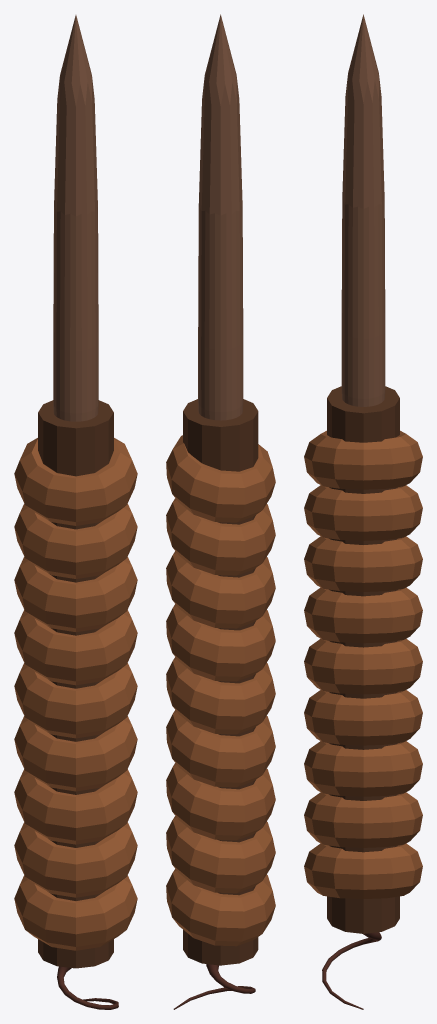
File: Wand 409.glb
3 views of the same model, side by side, from view 1: azimuth 90°, elevation 25°; view 2: azimuth 150°, elevation 25°; view 3: azimuth 270°, elevation 25° (orthographic). The views are drawn at different scales.
Visible parts, largest first — view 1: GeneratedWand; view 2: GeneratedWand; view 3: GeneratedWand.
Boxes of the visible parts, left/top/right/bottom form: GeneratedWand: left=14, top=15, right=137, bottom=1009; GeneratedWand: left=166, top=14, right=275, bottom=1009; GeneratedWand: left=304, top=14, right=422, bottom=1009.
Size of the model in its own units: 0.0508 by 0.525 by 0.0581.
